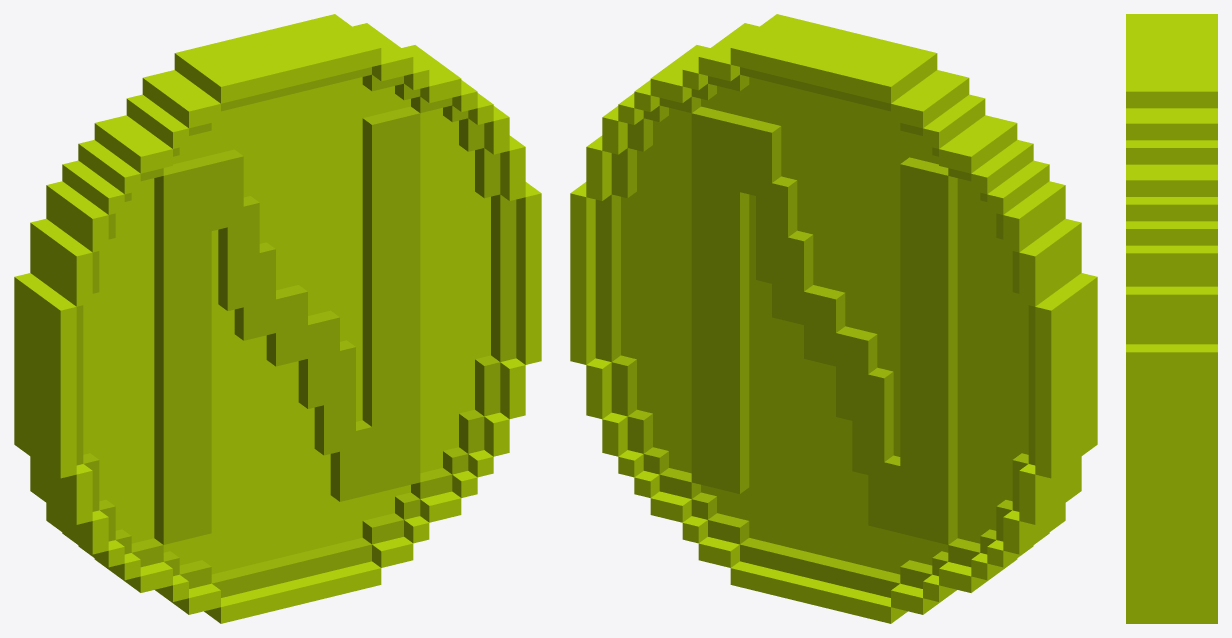
The model's file is Coin_N.fbx.
The picture shows the model from 3 angles, left to right: view 1: azimuth 30°, elevation 25°; view 2: azimuth 150°, elevation 25°; view 3: azimuth 270°, elevation 25°; orthographic projection.
Visible parts, largest first — view 1: Coin N; view 2: Coin N; view 3: Coin N.
Boxes of the visible parts, left/top/right/bottom form: Coin N: left=14, top=14, right=541, bottom=623; Coin N: left=570, top=14, right=1097, bottom=623; Coin N: left=1126, top=14, right=1217, bottom=623.
Size of the model in its own units: 3000 by 3200 by 500.
